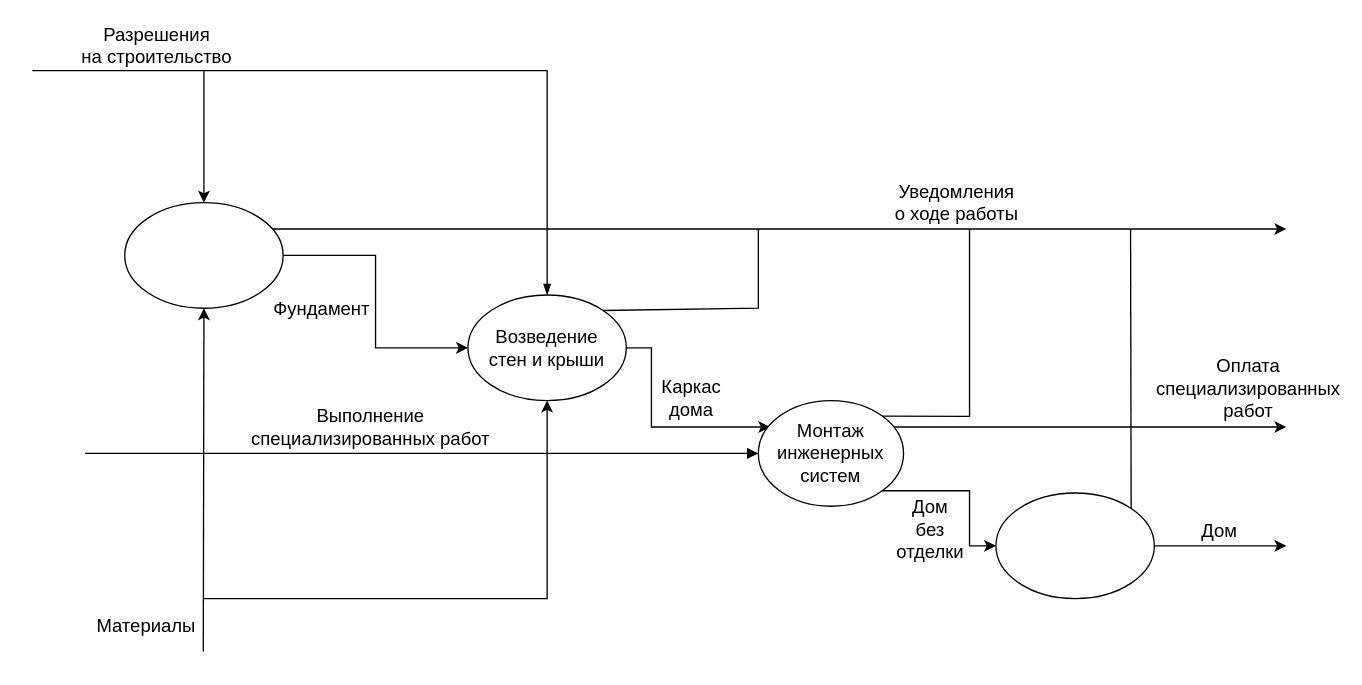
The diagram is 1362 pixels wide and 685 high, and some of its shapes have lost their labels. Here are the shapes that lost their labels. From the top down, the centre of each, then its label:
point 203,254: Подготовка участка и фундамента
point 1074,545: Внутренняя и внешняя отделка
